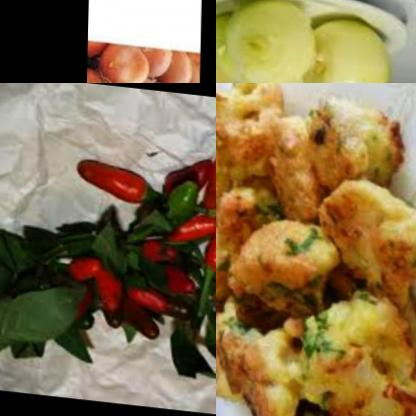cayliflower: (216, 83, 416, 416)
hot pepper: (73, 153, 157, 206), (100, 285, 159, 343), (158, 150, 216, 201), (147, 237, 198, 294), (164, 198, 216, 250), (126, 278, 175, 315), (70, 239, 109, 285), (96, 263, 131, 314), (196, 132, 216, 210), (199, 320, 216, 384)
onion: (227, 0, 326, 83), (302, 8, 394, 83), (84, 44, 200, 83), (216, 3, 249, 79), (268, 59, 333, 83)
